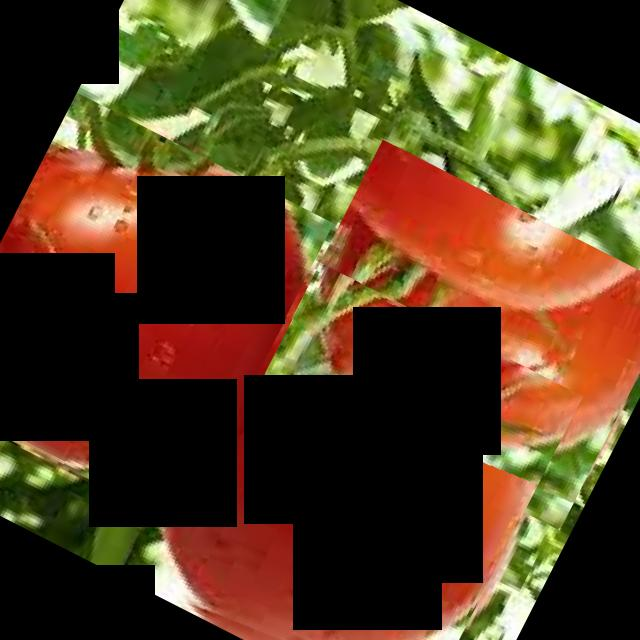tomatoes: (101, 237, 582, 640), (261, 139, 640, 530), (0, 93, 333, 528)
